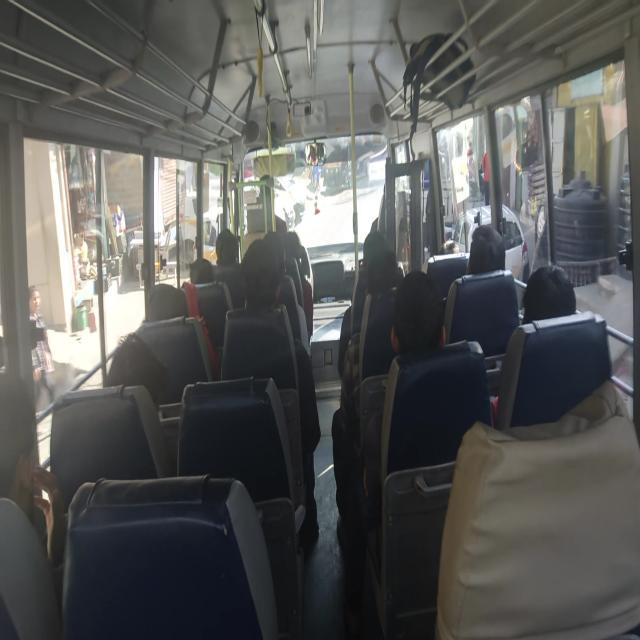person: (358, 270, 493, 634), (220, 237, 320, 545), (490, 263, 577, 425), (0, 374, 66, 566), (105, 331, 171, 406), (390, 270, 446, 356), (521, 263, 577, 324), (28, 284, 55, 381), (466, 224, 506, 275), (215, 228, 239, 267)
